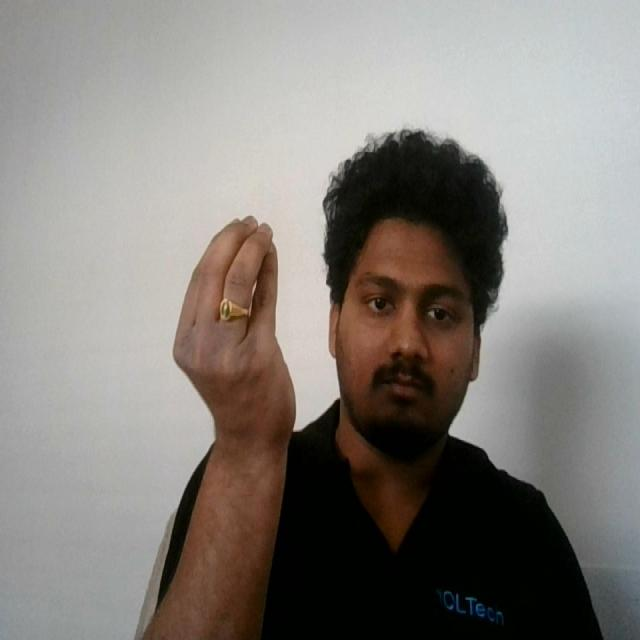Please: (160, 207, 308, 462)
